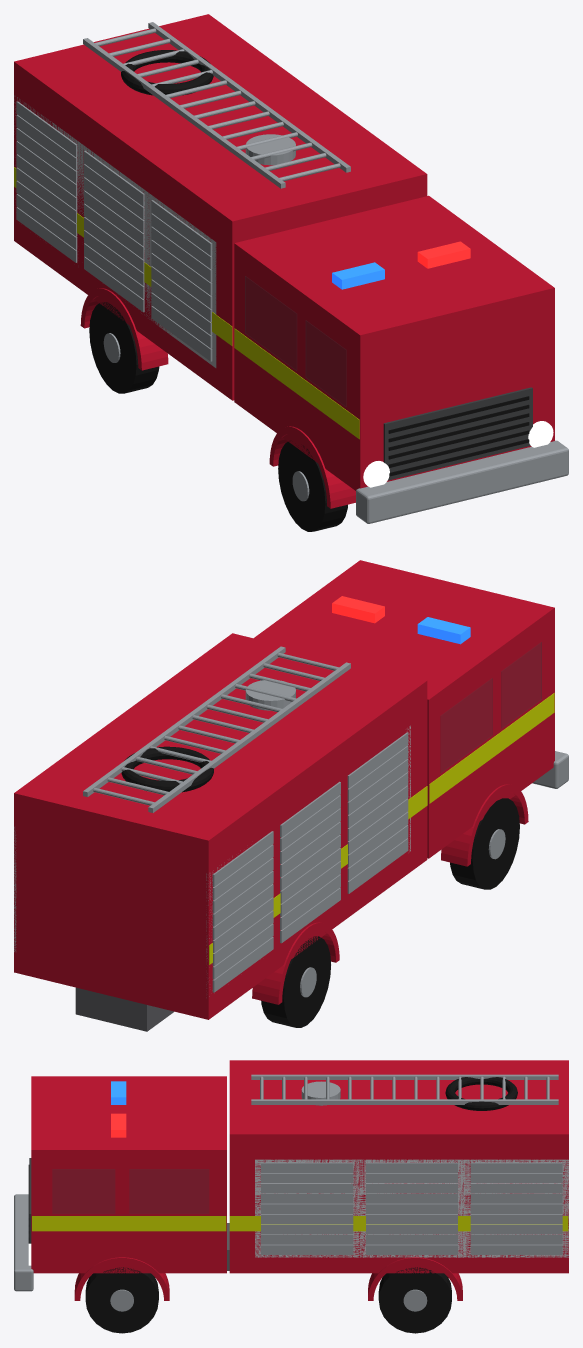
File: fire_truck.glb
3 views of the same model, one above another, from view 1: azimuth 30°, elevation 25°; view 2: azimuth 150°, elevation 25°; view 3: azimuth 270°, elevation 25° (orthographic). The views are drawn at different scales.
Parts seen in each view (by area): view 1: Cab, BodyBox, Shutters, Grille, Bumper, Ladder, Glass, WheelRL, WheelFL, ReflectiveStripes, Hose, FenderRL (+4 smaller); view 2: BodyBox, Cab, Shutters, Ladder, Glass, WheelFL, WheelRL, ReflectiveStripes, Chassis, Hose, FenderRL, FenderFL (+4 smaller); view 3: BodyBox, Cab, Shutters, Glass, Ladder, ReflectiveStripes, WheelFR, WheelRR, Bumper, Hose, FenderFR, FenderRR (+3 smaller).
Boxes of the visible parts, box(x1,y1,x2,y2) form: Cab: box(234, 195, 554, 490); BodyBox: box(14, 14, 427, 400); Shutters: box(14, 95, 216, 367); Grille: box(383, 387, 532, 480); Bumper: box(356, 440, 568, 523); Ladder: box(83, 22, 350, 188); Glass: box(243, 272, 348, 410); WheelRL: box(89, 302, 159, 393); WheelFL: box(278, 441, 347, 531); ReflectiveStripes: box(14, 167, 359, 439); Hose: box(121, 50, 213, 95); FenderRL: box(80, 288, 168, 370); BodyBox: box(14, 633, 427, 1019); Cab: box(254, 560, 554, 858); Shutters: box(14, 725, 410, 997); Ladder: box(83, 646, 350, 812); Glass: box(438, 638, 542, 777); WheelFL: box(450, 798, 519, 889); WheelRL: box(261, 936, 330, 1027); ReflectiveStripes: box(209, 693, 554, 964); Chassis: box(75, 987, 173, 1031); Hose: box(121, 746, 213, 792); FenderRL: box(252, 922, 339, 1004); FenderFL: box(441, 784, 528, 866); BodyBox: box(229, 1060, 568, 1273); Cab: box(31, 1076, 226, 1273); Shutters: box(255, 1159, 568, 1257); Glass: box(49, 1166, 211, 1215); Ladder: box(251, 1074, 558, 1104); ReflectiveStripes: box(32, 1216, 568, 1231); WheelFR: box(85, 1267, 158, 1333); WheelRR: box(378, 1267, 451, 1333); Bumper: box(14, 1194, 33, 1291); Hose: box(445, 1077, 517, 1110); FenderFR: box(74, 1257, 169, 1300); FenderRR: box(368, 1257, 462, 1300).
Size of the model in its own units: 2.6 by 3.3 by 7.95.
